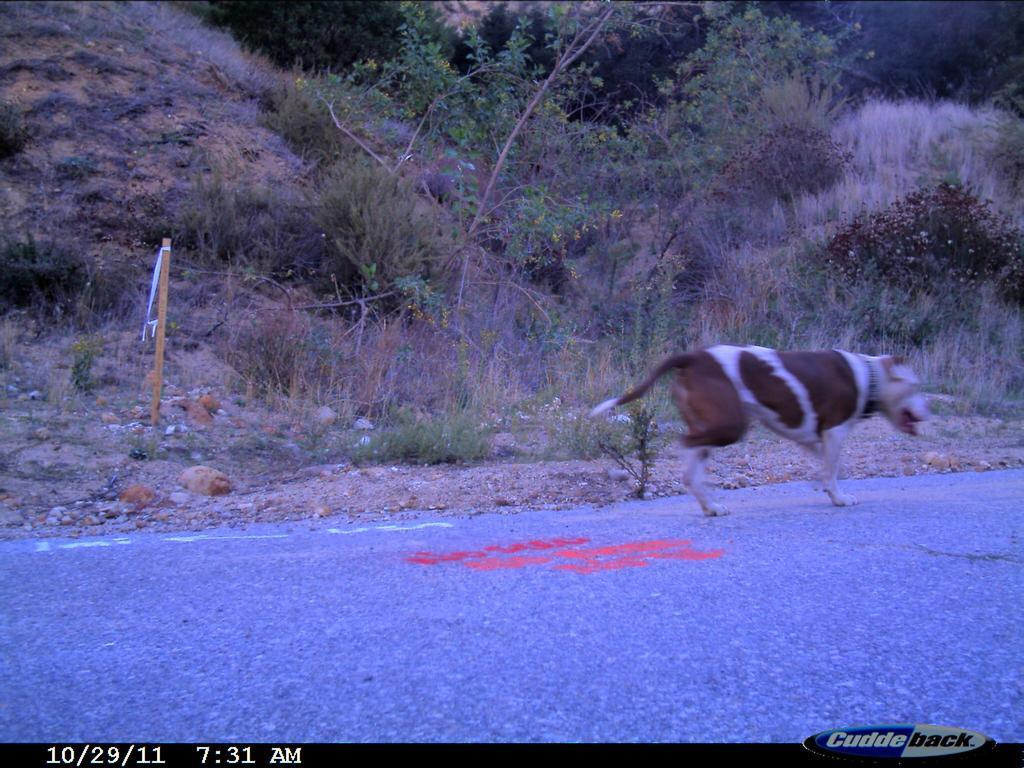dog: (580, 336, 944, 533)
